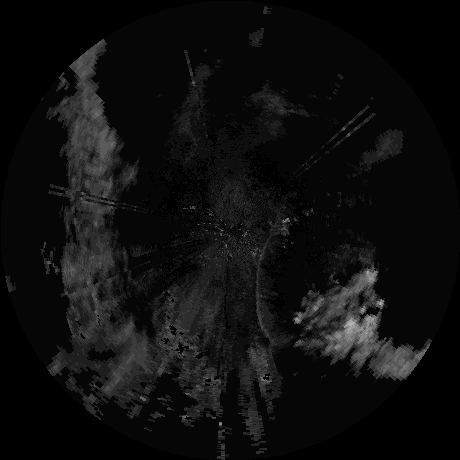frontgust: (255, 237, 277, 343)
